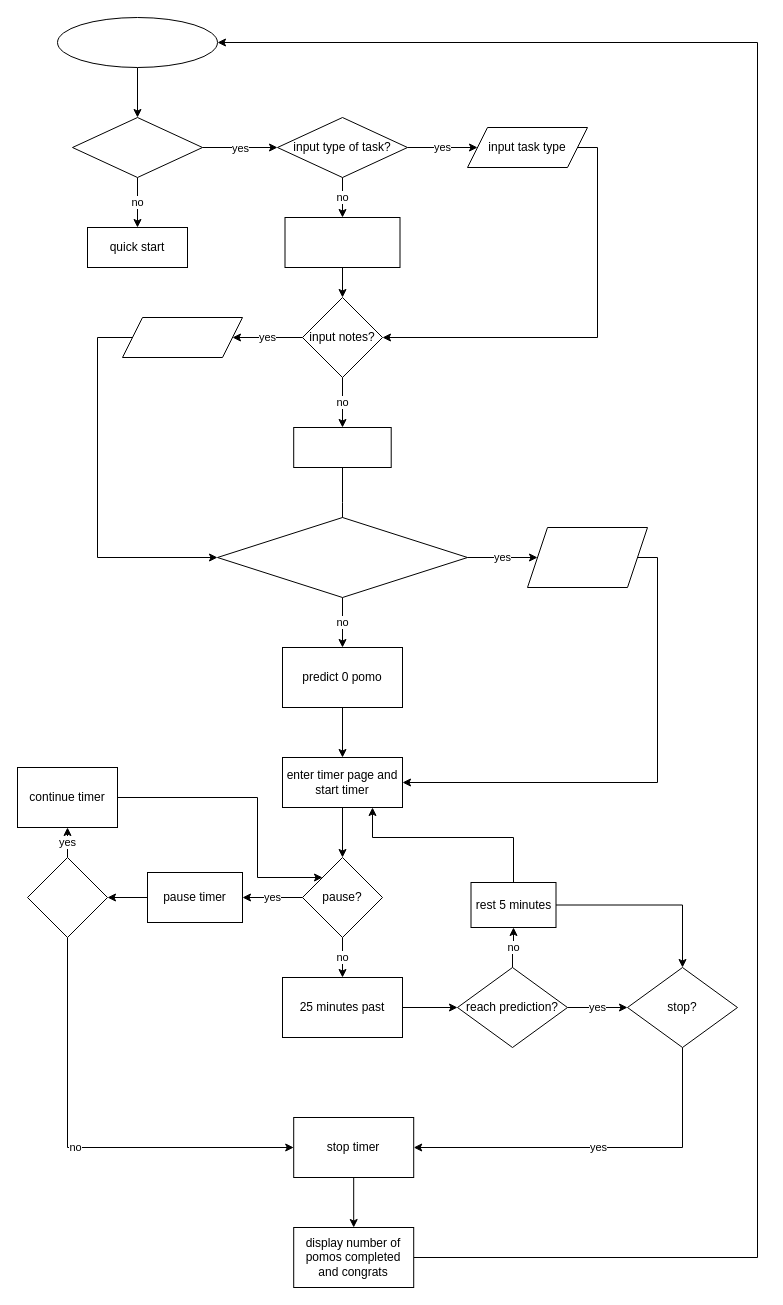
The diagram is 783 pixels wide and 1305 high, and some of its shapes have lost their labels. The shapes that lost their labels are listed below. From the top down, each one's centre as x and y in pixels, then its label:
the point at 137,42: user enters the website
the point at 137,147: enter task specification?
the point at 342,242: task type: general
the point at 182,337: input notes
the point at 342,447: notes empty
the point at 342,557: input predicted number of pomos?
the point at 587,557: input prediction
the point at 67,897: continue?
